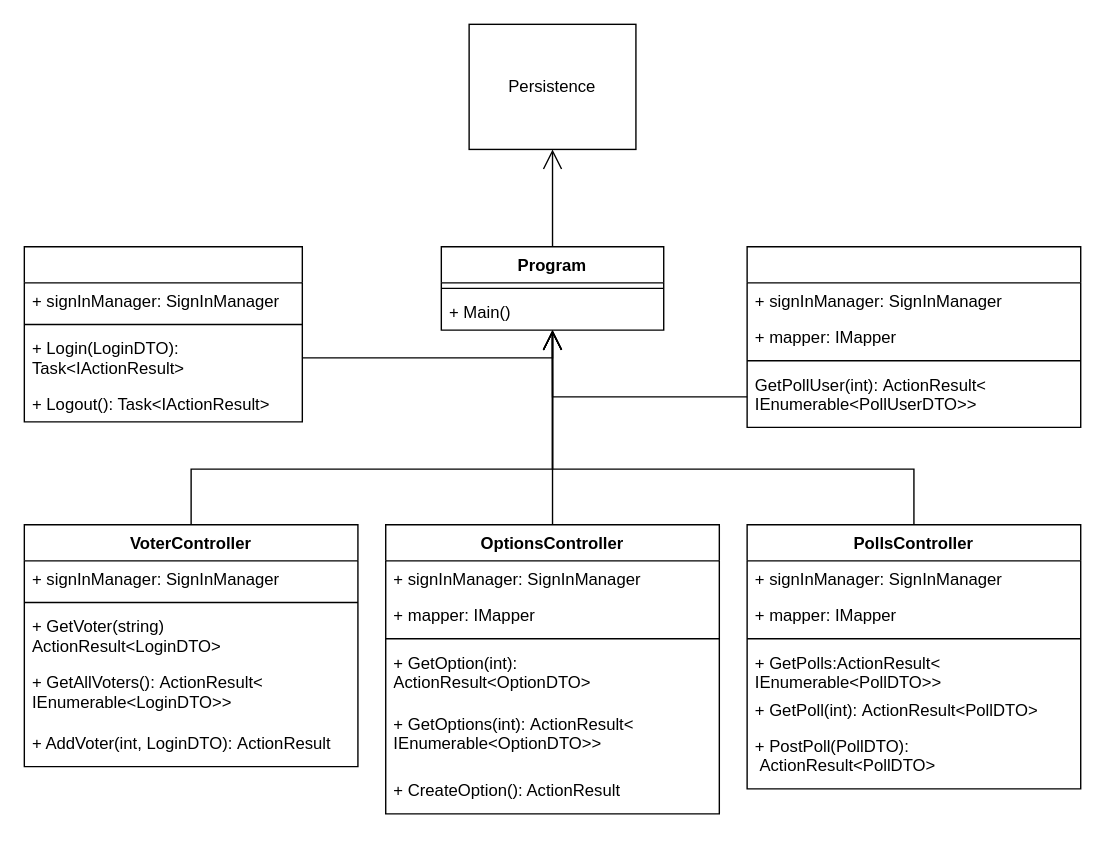
Image size: 1105x842. Some labels were removed from this diagram. Here are the shapes that lost their labels. From the top down, the box of each, then its label:
(23, 245, 302, 422): AccountController
(746, 245, 1081, 427): PollVoterController
